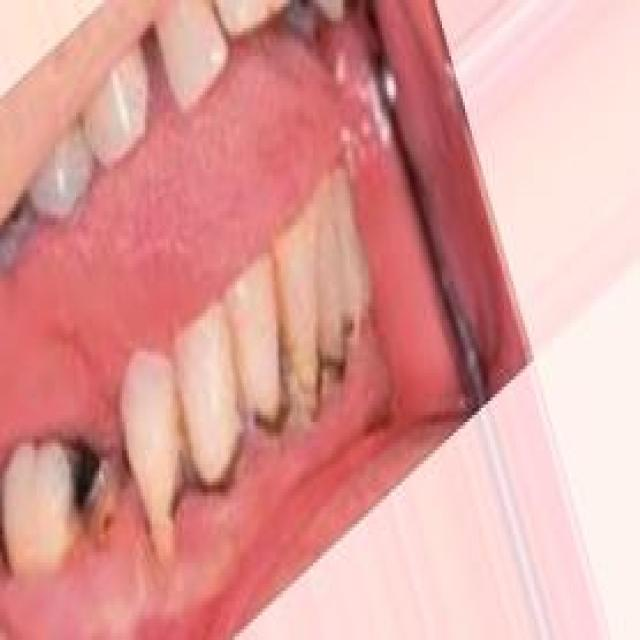caries: (48, 409, 138, 551)
